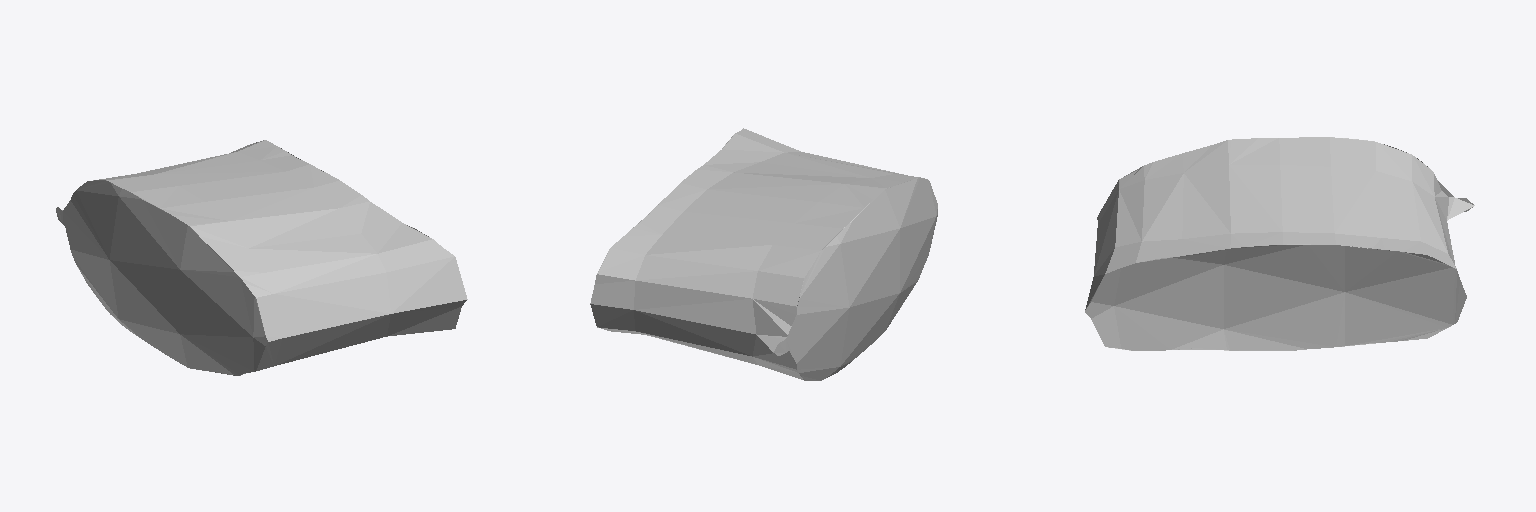
3 views of the same model, side by side, from view 1: azimuth 30°, elevation 25°; view 2: azimuth 150°, elevation 25°; view 3: azimuth 270°, elevation 25° (orthographic).
Visible parts, largest first — view 1: joint_11; view 2: joint_11; view 3: joint_11.
Boxes of the visible parts, x1=… form: joint_11: x1=56, y1=140, x2=467, y2=375; joint_11: x1=590, y1=128, x2=937, y2=380; joint_11: x1=1085, y1=137, x2=1474, y2=350.
Bounding box in the file's own units: 0.0012 × 0.0007 × 0.0018.